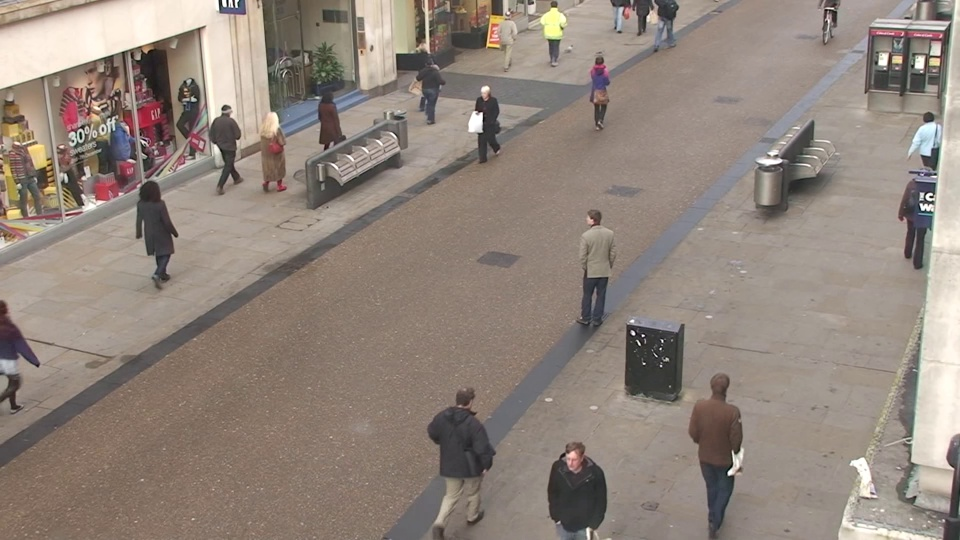pedestrian: (689, 364, 745, 525), (440, 375, 494, 536), (544, 433, 600, 540), (129, 177, 175, 286), (575, 203, 613, 323), (902, 107, 948, 205), (257, 106, 292, 198), (211, 99, 247, 188), (313, 87, 345, 174), (472, 82, 502, 169), (416, 54, 444, 132), (586, 52, 612, 131), (410, 40, 437, 114), (495, 8, 519, 73)
